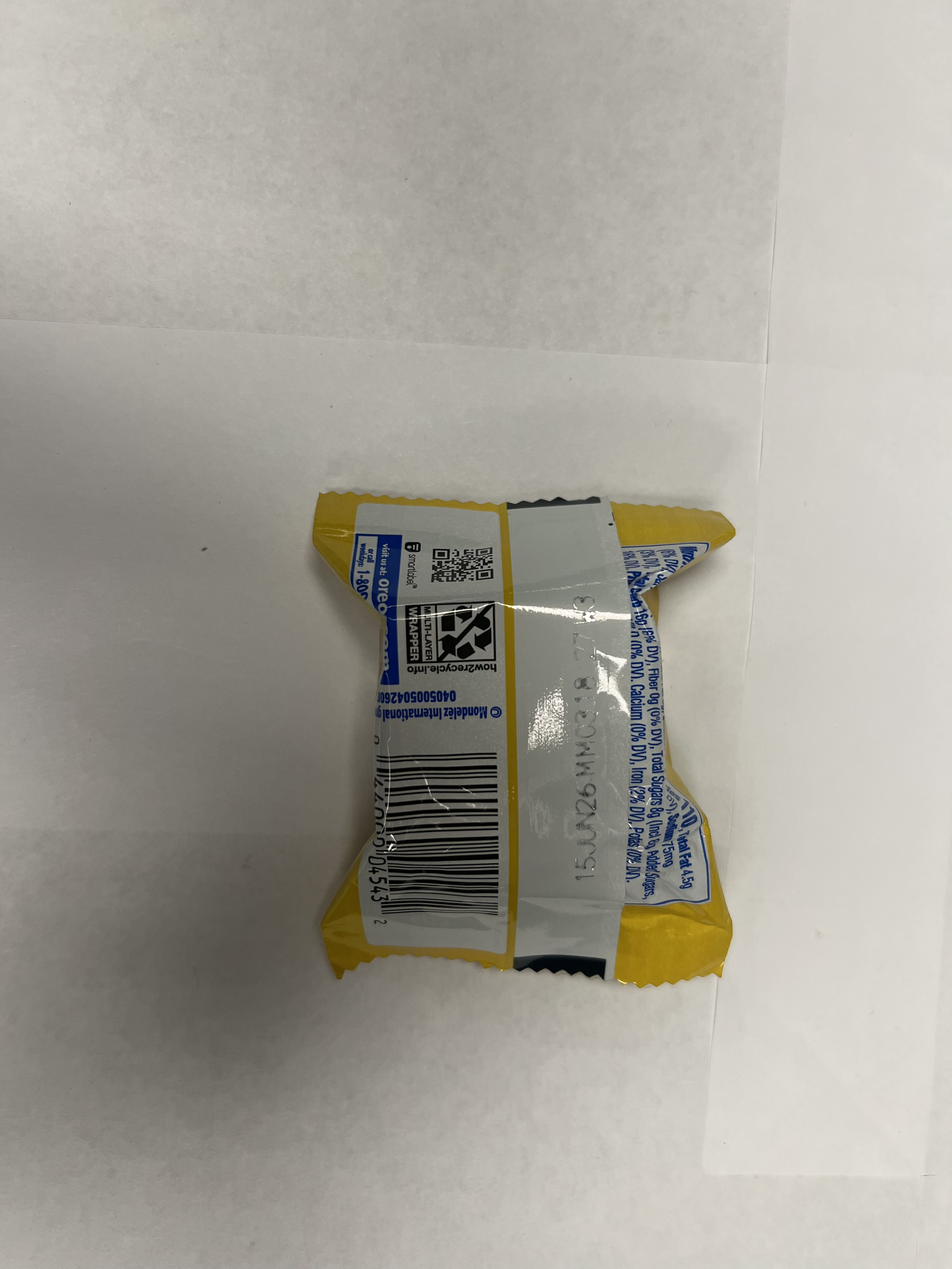packaged: (301, 488, 746, 994)
